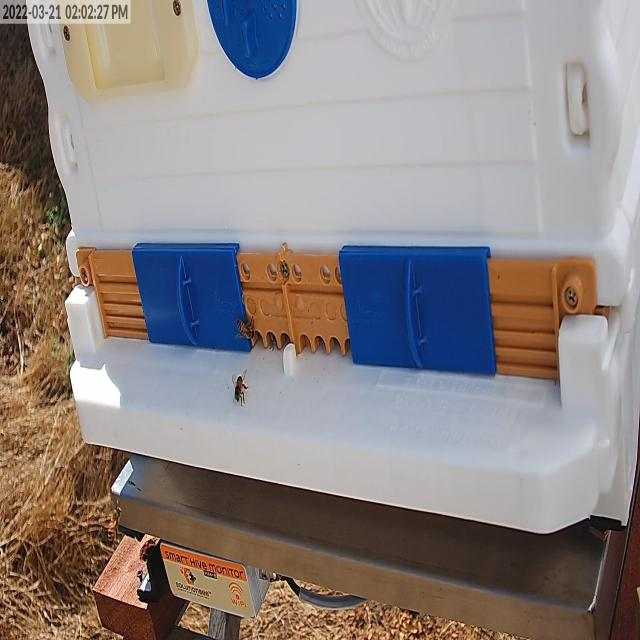honeybee: (233, 370, 246, 408), (237, 316, 255, 342)
